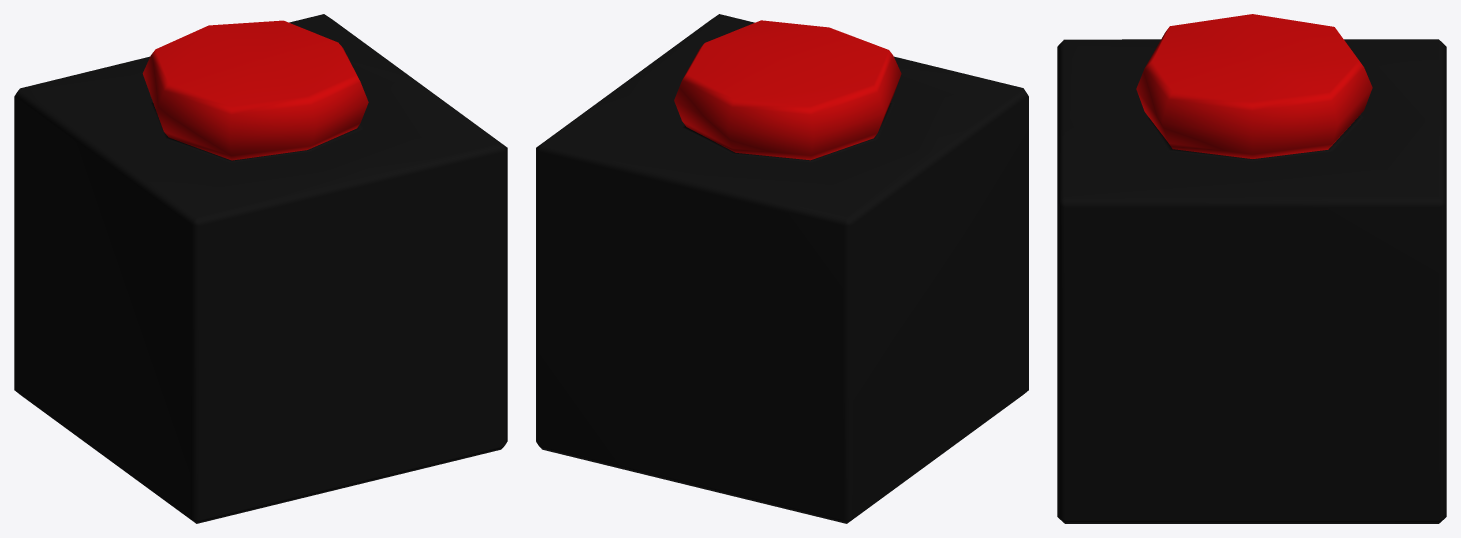
The model's file is tlacitko.obj.
3 views of the same model, side by side, from view 1: azimuth 30°, elevation 25°; view 2: azimuth 150°, elevation 25°; view 3: azimuth 270°, elevation 25° (orthographic). The views are drawn at different scales.
Parts seen in each view (by area): view 1: Cube.033; view 2: Cube.033; view 3: Cube.033.
Boxes of the visible parts, x1,y1,x2,y2 form: Cube.033: (14, 14, 507, 523); Cube.033: (536, 14, 1028, 523); Cube.033: (1057, 14, 1446, 523).
Bounding box in the file's own units: 0.8801 × 0.9569 × 0.8801.
